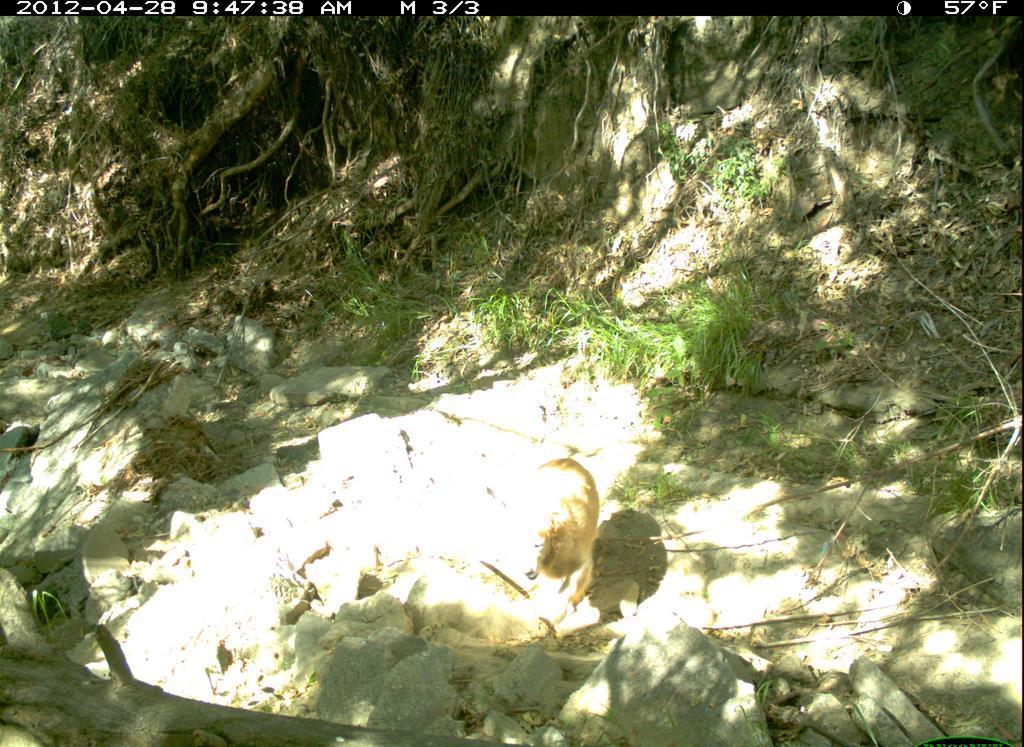dog: (497, 442, 615, 638)
